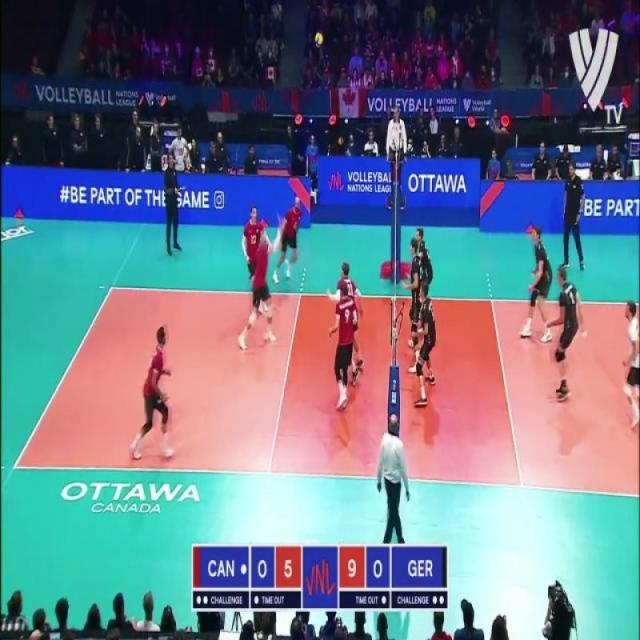volleyball: (314, 31, 324, 49)
